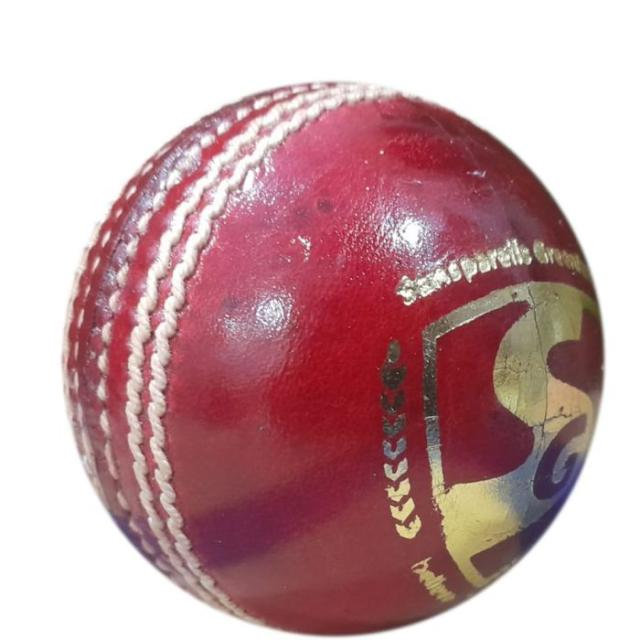ball: (59, 76, 607, 637)
